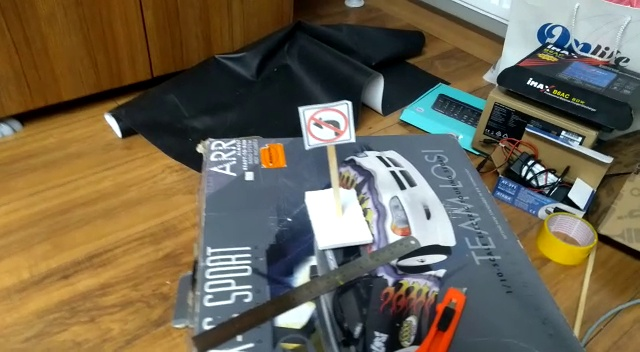sola_donulmez: (311, 106, 348, 147)
